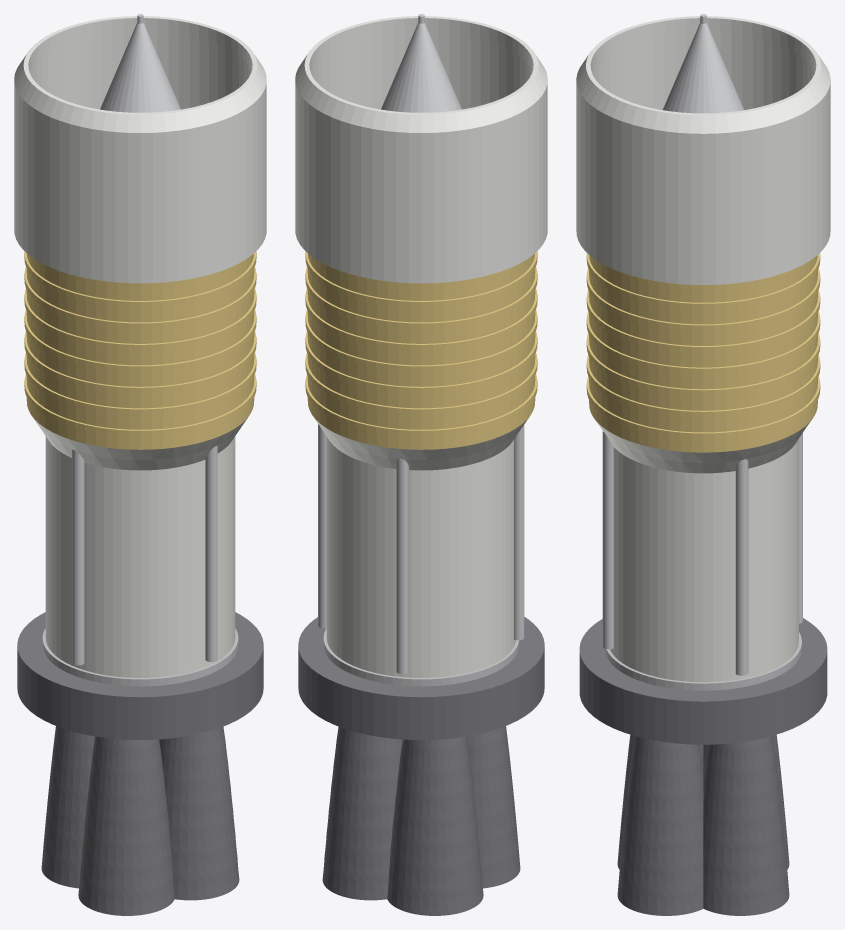
File: jet12_precooled_combined_cycle.glb
The picture shows the model from 3 angles, left to right: view 1: azimuth 30°, elevation 25°; view 2: azimuth 150°, elevation 25°; view 3: azimuth 270°, elevation 25°; orthographic projection.
Visible parts, largest first — view 1: cowl, core, precooler, rocket_nozzles, bypass_burners, core_pipes, spike, mount_ring; view 2: cowl, core, precooler, rocket_nozzles, bypass_burners, core_pipes, spike, mount_ring; view 3: cowl, core, precooler, rocket_nozzles, bypass_burners, core_pipes, spike, mount_ring.
Boxes of the visible parts, left/top/right/bottom form: cowl: left=14, top=16, right=266, bottom=283; core: left=33, top=418, right=247, bottom=677; precooler: left=24, top=251, right=256, bottom=449; rocket_nozzles: left=41, top=726, right=239, bottom=915; bypass_burners: left=17, top=612, right=263, bottom=740; core_pipes: left=72, top=445, right=217, bottom=665; spike: left=100, top=14, right=180, bottom=112; mount_ring: left=42, top=628, right=238, bottom=686; cowl: left=295, top=16, right=547, bottom=283; core: left=314, top=418, right=528, bottom=677; precooler: left=305, top=251, right=537, bottom=449; rocket_nozzles: left=322, top=726, right=520, bottom=915; bypass_burners: left=298, top=617, right=544, bottom=740; core_pipes: left=318, top=424, right=524, bottom=673; spike: left=381, top=14, right=461, bottom=112; mount_ring: left=323, top=628, right=519, bottom=686; cowl: left=576, top=16, right=830, bottom=284; core: left=595, top=420, right=811, bottom=682; precooler: left=586, top=253, right=820, bottom=452; rocket_nozzles: left=617, top=734, right=789, bottom=915; bypass_burners: left=579, top=618, right=827, bottom=744; core_pipes: left=602, top=430, right=802, bottom=675; spike: left=662, top=14, right=744, bottom=113; mount_ring: left=605, top=632, right=801, bottom=690.
Size of the model in its own units: 1.6 by 6 by 1.6.
